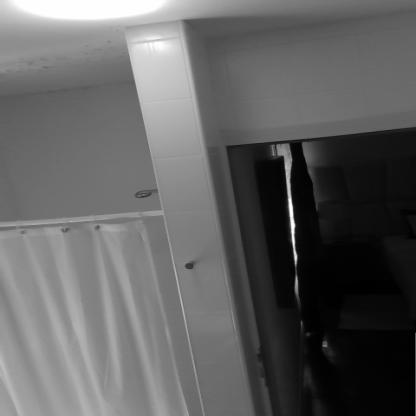open: (203, 113, 409, 416)
